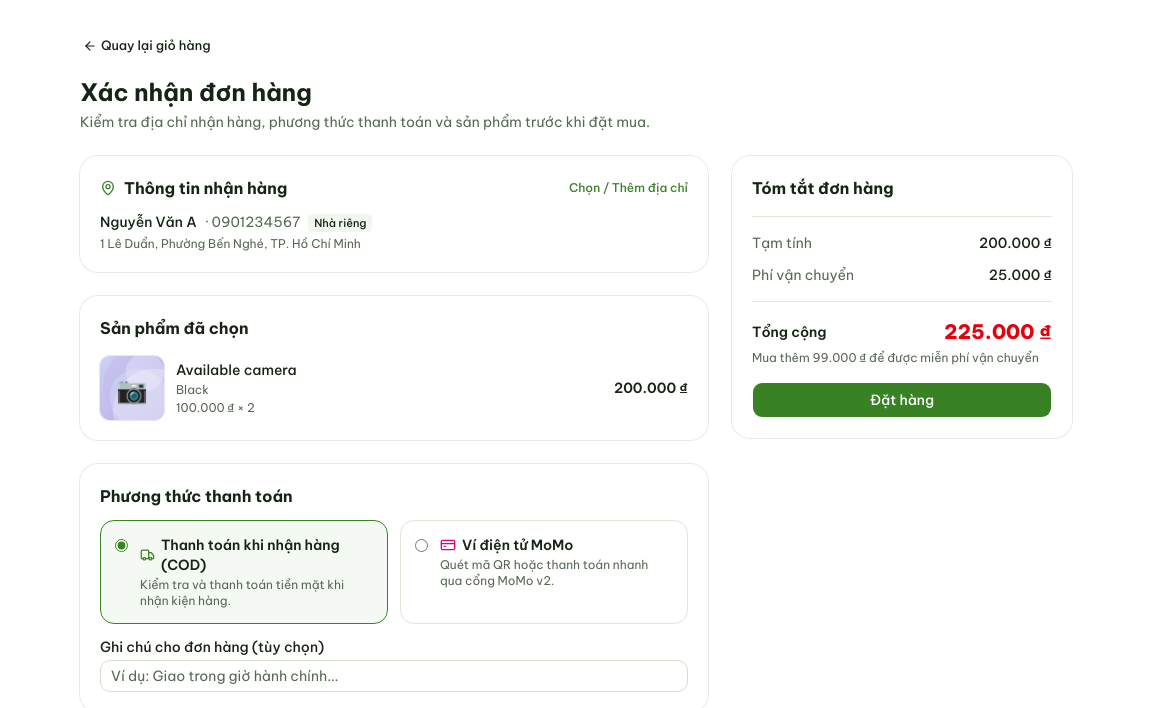
Scenario: OrderPreviewPage › displays Vietnamese product-aware alert on 409 INVENTORY_INSUFFICIENT without disabling retry
Expected: the text "1 Lê Duẩn, Phường Bến Nghé, TP. Hồ Chí Minh" is shown, x1=100 y1=236 x2=361 y2=251
Click the button "Đặt hàng" at coordinates (902, 400), box x1=752 y1=382 x2=1052 y2=418
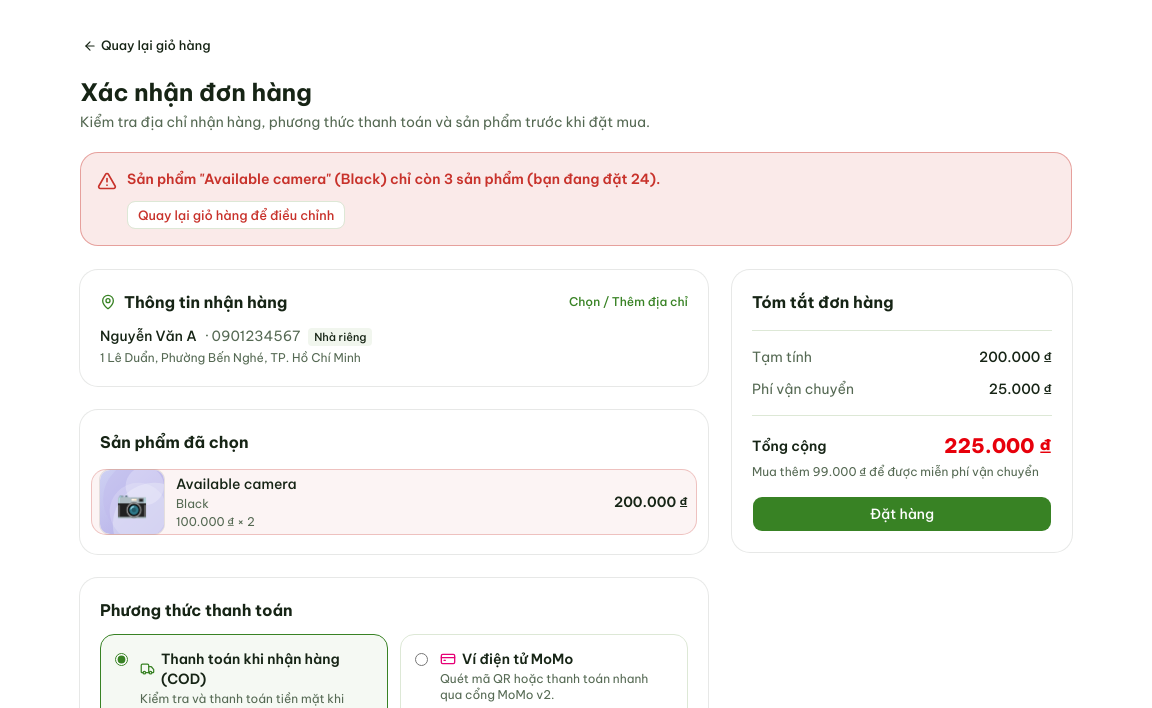
Expected: the message does not show "insufficient stock", x1=80 y1=152 x2=1072 y2=246
Expected: the message shows "Available camera", x1=127 y1=170 x2=660 y2=188
Expected: the message shows "chỉ còn 3 sản phẩm (bạn đang đặt 24)", x1=127 y1=170 x2=660 y2=188
